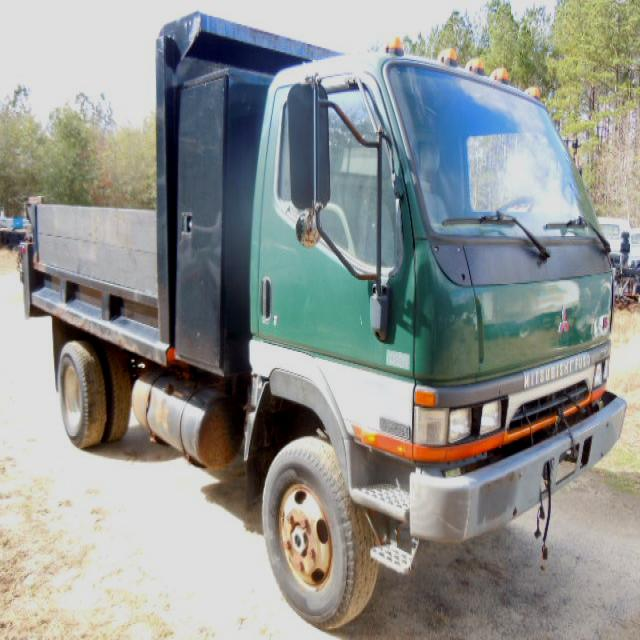truck: (17, 5, 628, 632)
